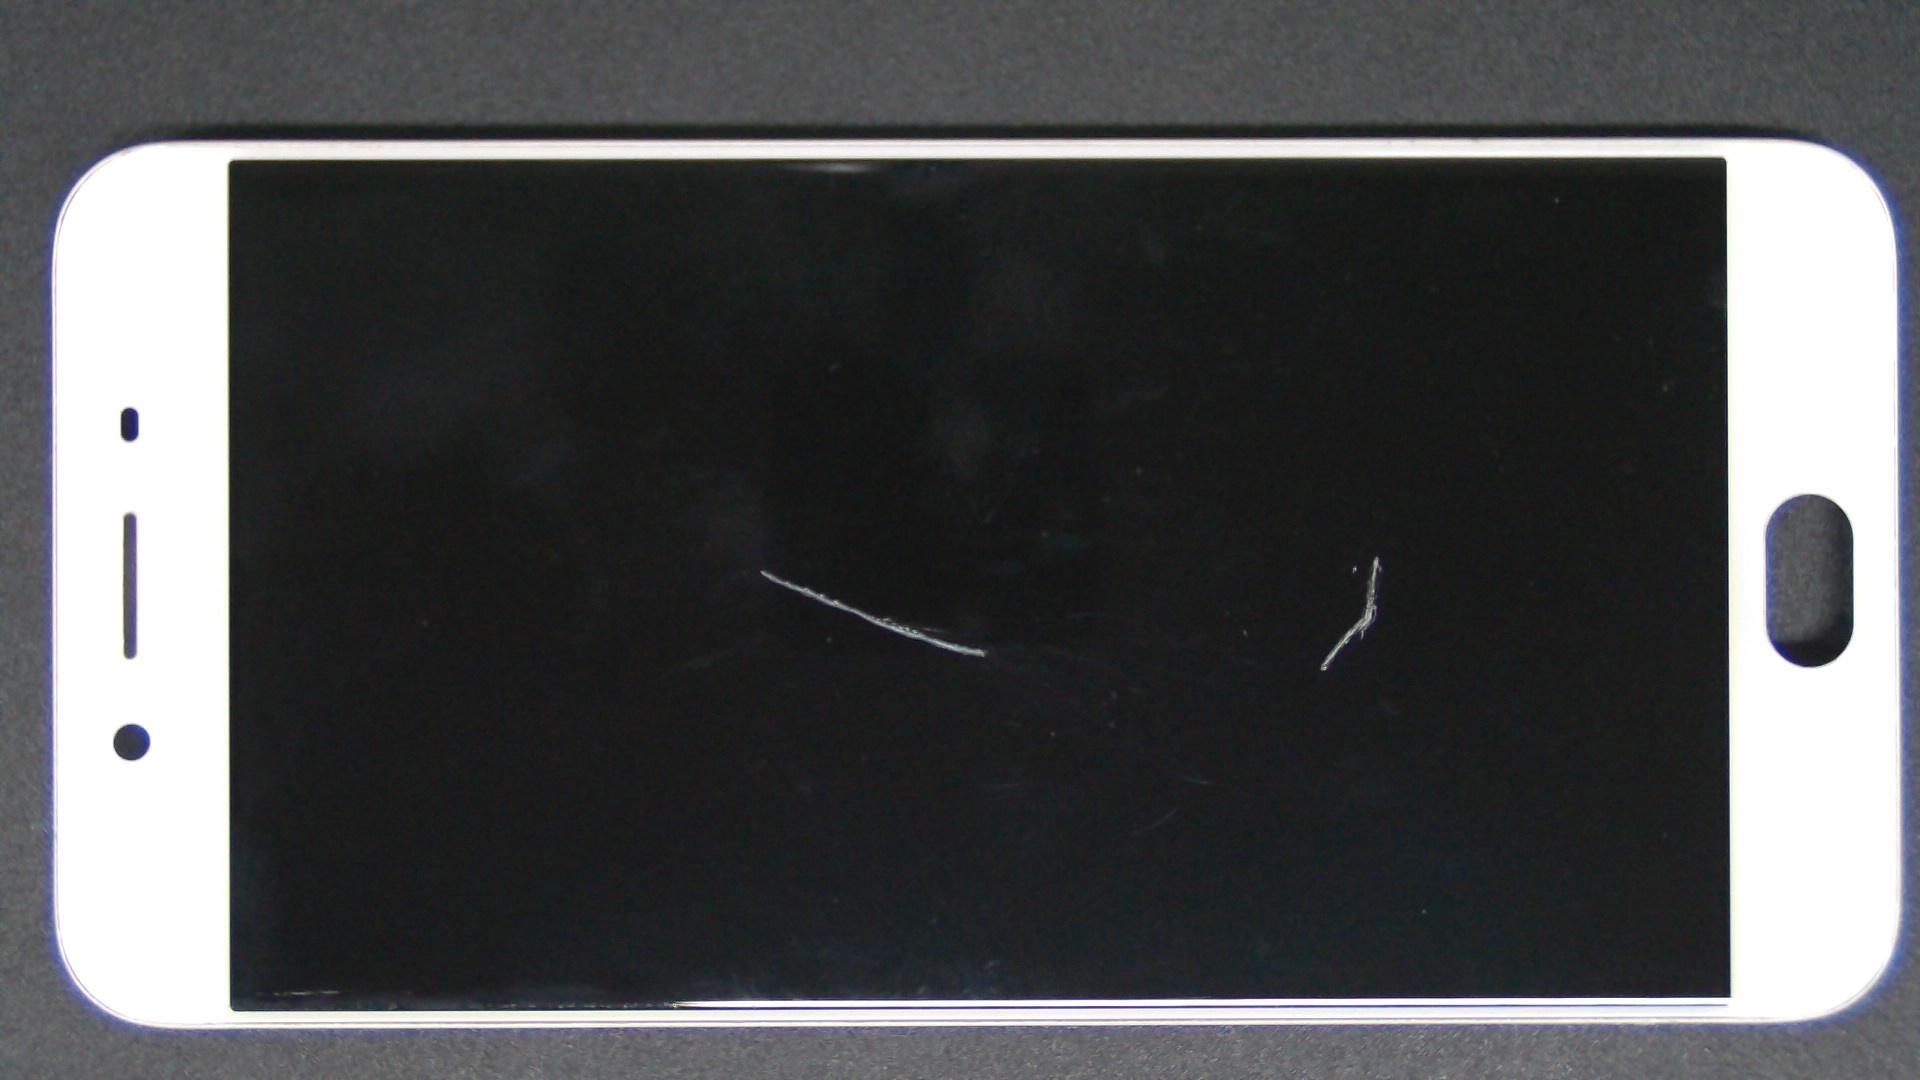oil: (688, 277, 1920, 835), (380, 284, 1139, 855)
